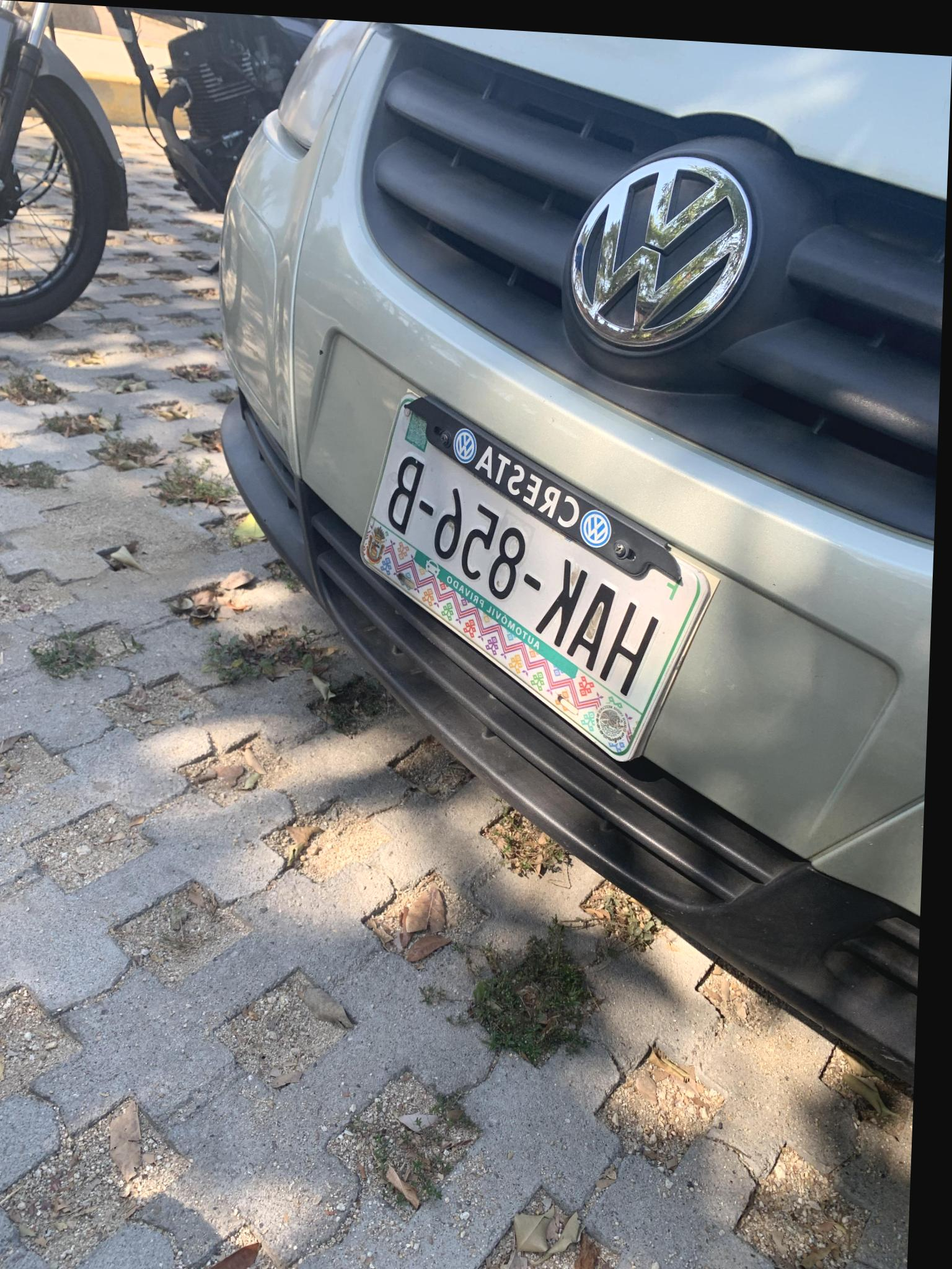License_Plate: (324, 380, 738, 781)
